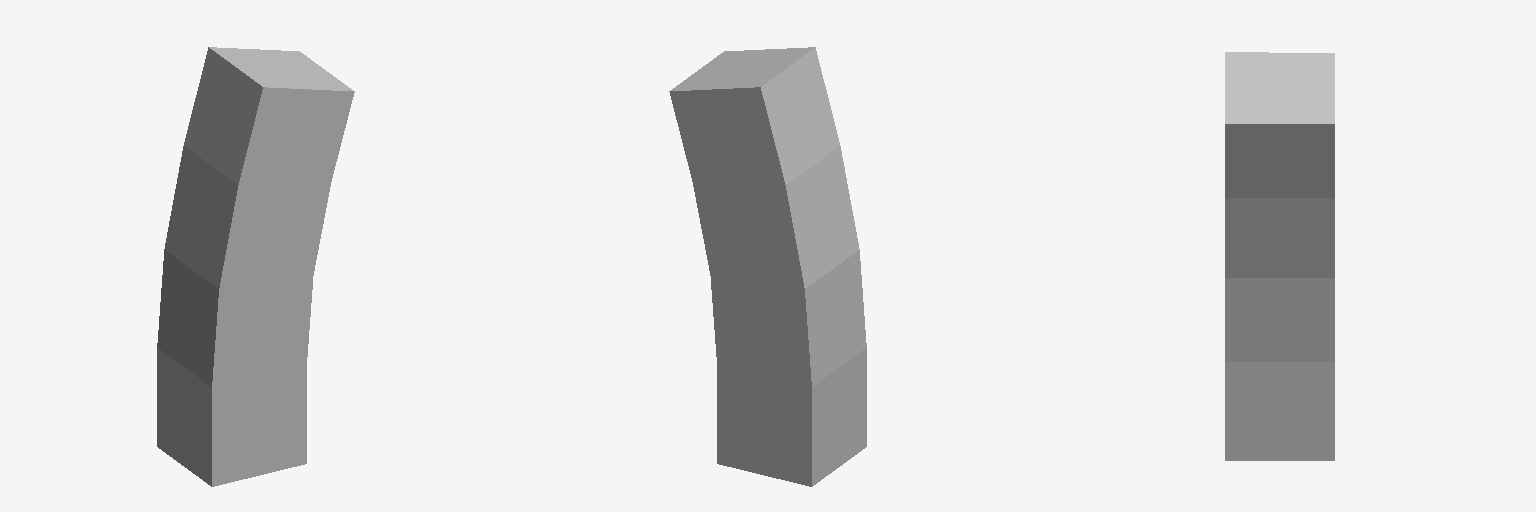
The model's file is Animation_000005.obj.
3 renders of one model, left to right at view 1: azimuth 30°, elevation 25°; view 2: azimuth 150°, elevation 25°; view 3: azimuth 270°, elevation 25°, orthographic.
Visible parts, largest first — view 1: Cube; view 2: Cube; view 3: Cube.
Part boxes in pixels (x1,y1,x2,y2): Cube: (157,47,354,486); Cube: (669,47,866,486); Cube: (1225,52,1334,460).
Size of the model in its own units: 2 by 5.19 by 1.33.